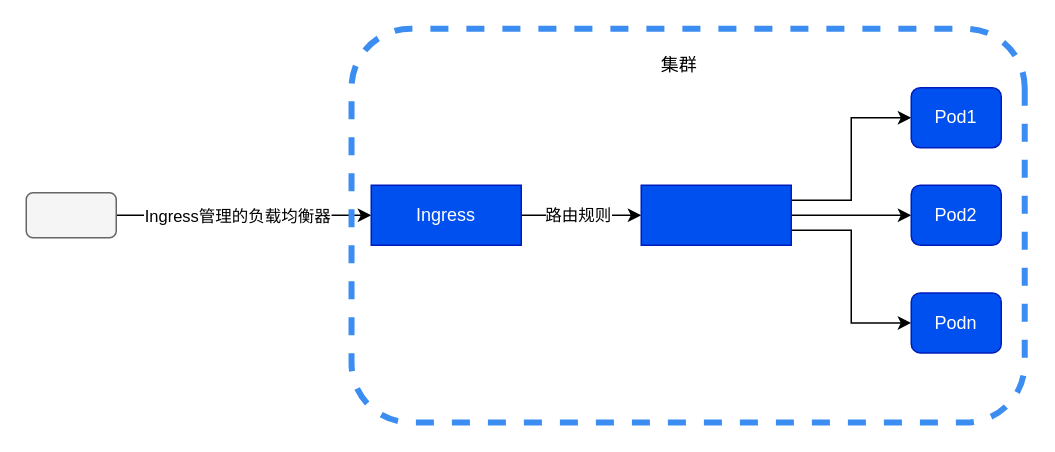
Image size: 1055x452. Some labels were removed from this diagram. The shapes that lost their labels are listed below. From the top down, each one's centre as x and y in pixels, then its label:
At (70,214): "客户端".
At (715,214): "Service".
